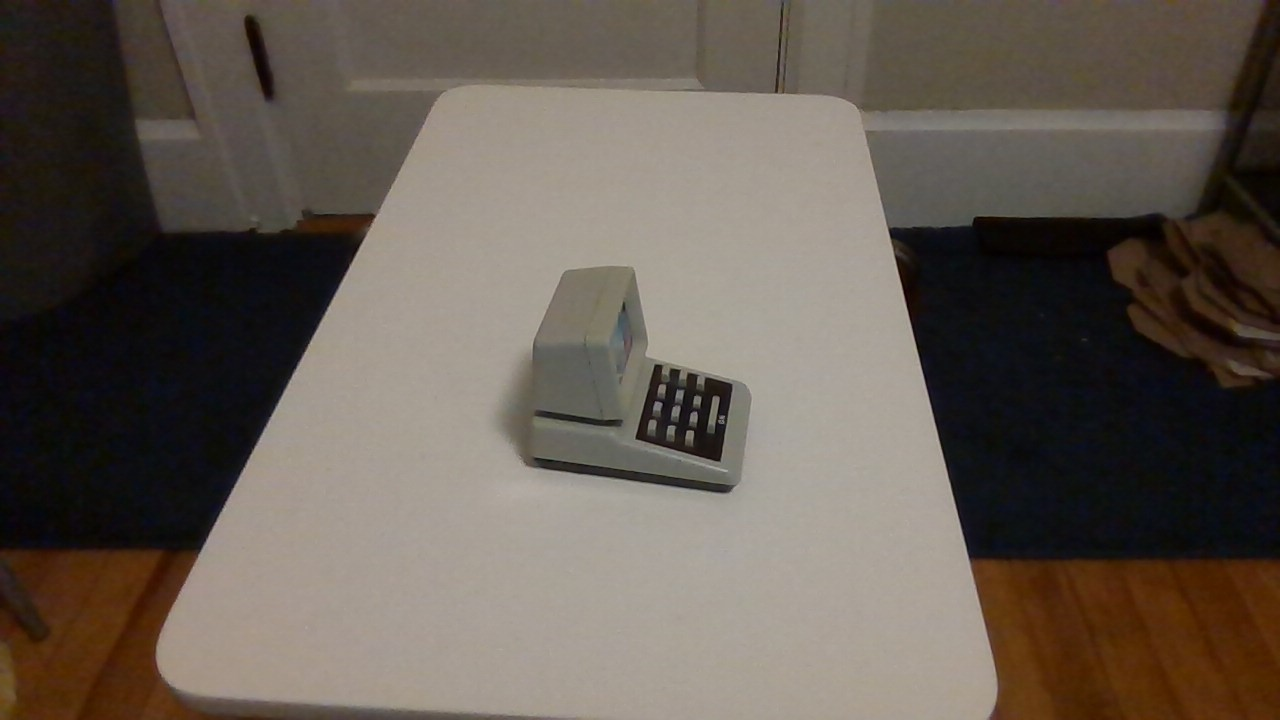Toy: (499, 237, 767, 512)
